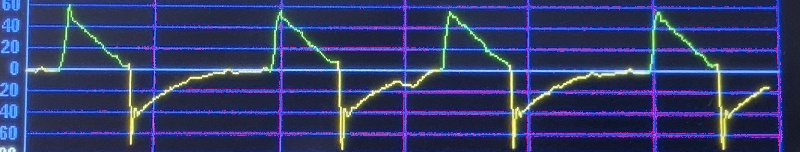normal_flow: (23, 4, 773, 152)
